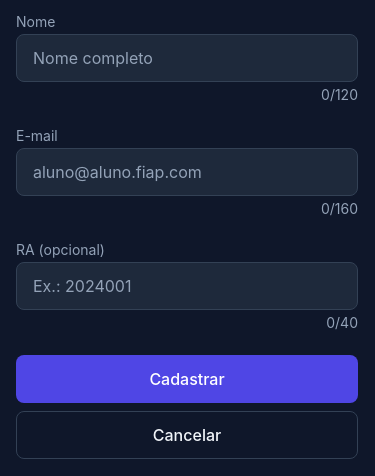
Test: criação › exige nome e e-mail, mas não o RA
Click the button "Cadastrar" at point(187, 379), box top-left (16, 355), bottom-right (358, 403)
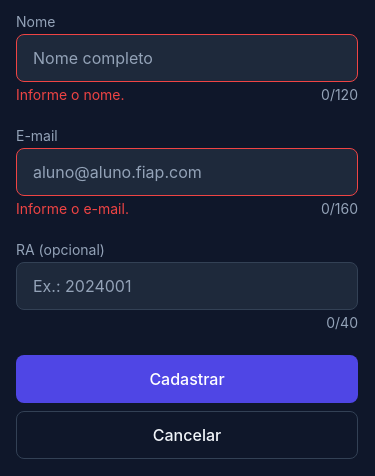
expect the text "Informe o nome." is shown: met, box top-left (16, 86), bottom-right (124, 103)
expect the text "Informe o e-mail." is shown: met, box top-left (16, 200), bottom-right (129, 217)
